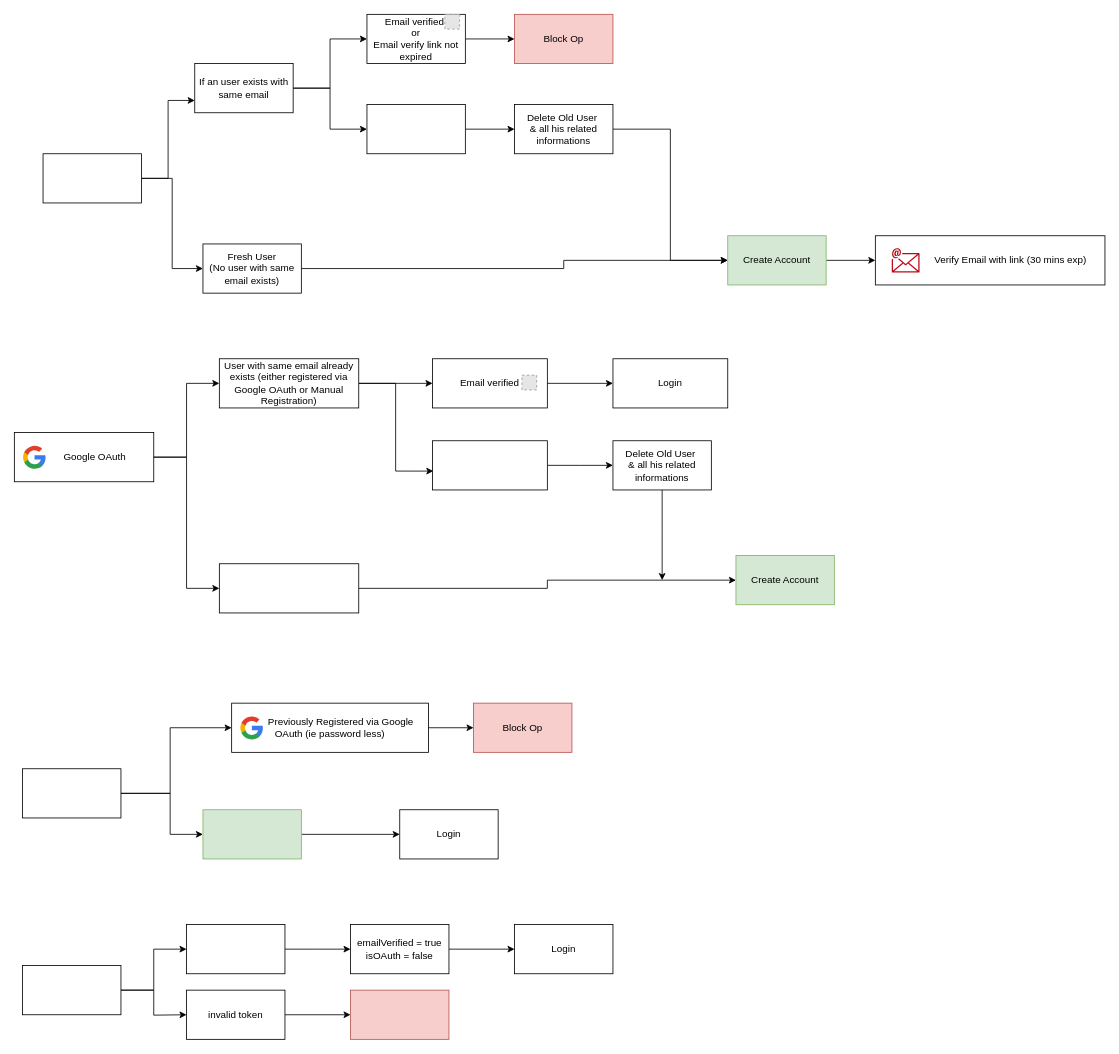
Image size: 1119x1054. Some labels were removed from this diagram. Grey dashed boxes stand in for pictures. Each missing label, with the centre of its shape:
Block: pixel 399 1014
Email not verified: pixel 489 465
Email not verified or Email verify link expired: pixel 415 129
Fresh User: pixel 289 588
Manual Login: pixel 71 793
Register: pixel 91 178
Reset Password: pixel 71 990
Valid Credentials: pixel 251 834
valid token: pixel 235 949
